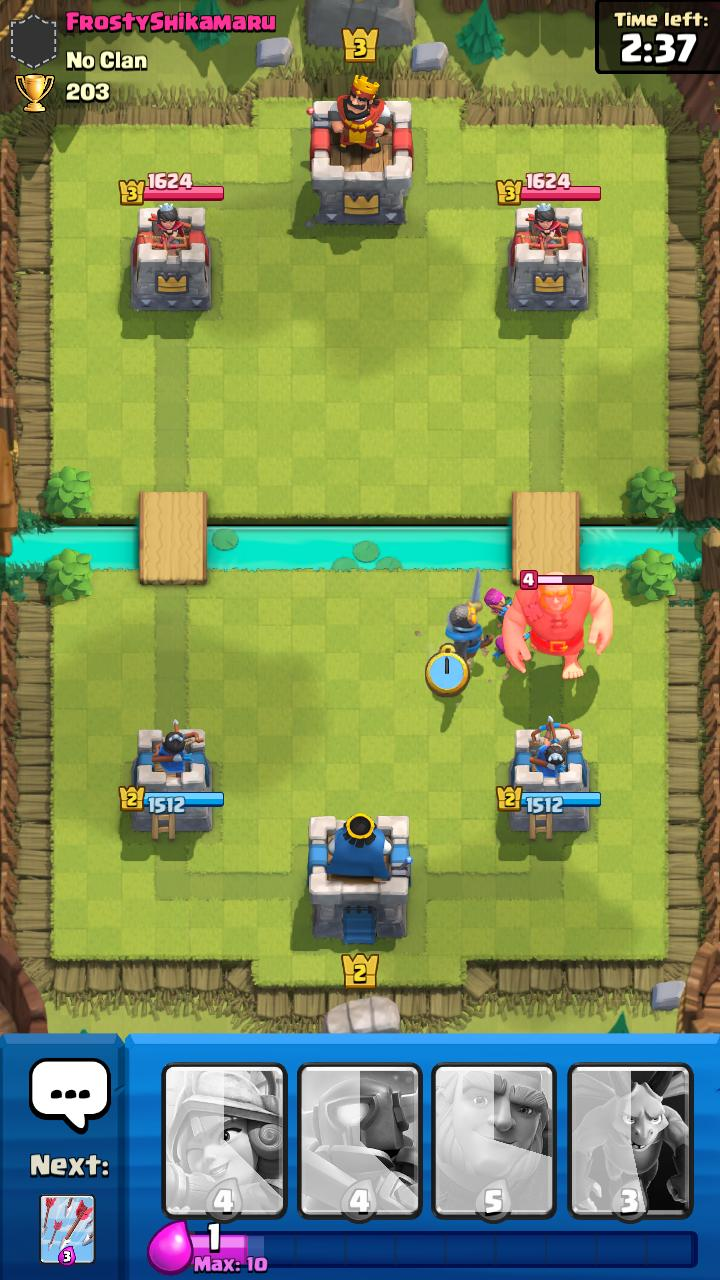ally: (446, 567, 494, 673), (493, 630, 532, 668), (485, 588, 514, 628)
enemy: (502, 571, 613, 679)
